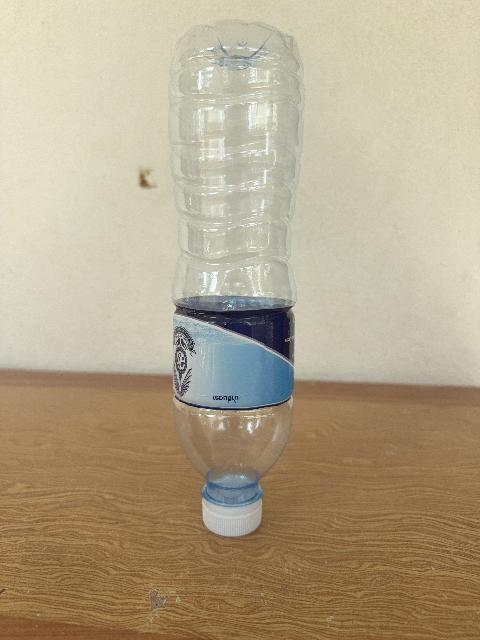bottle: (169, 20, 303, 536)
